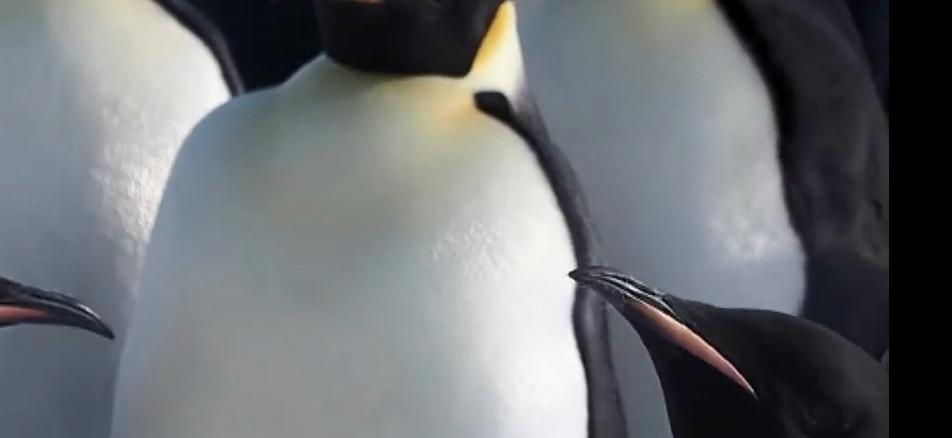Emperor Penguin: (86, 0, 650, 438), (508, 208, 834, 438), (0, 180, 143, 438)
